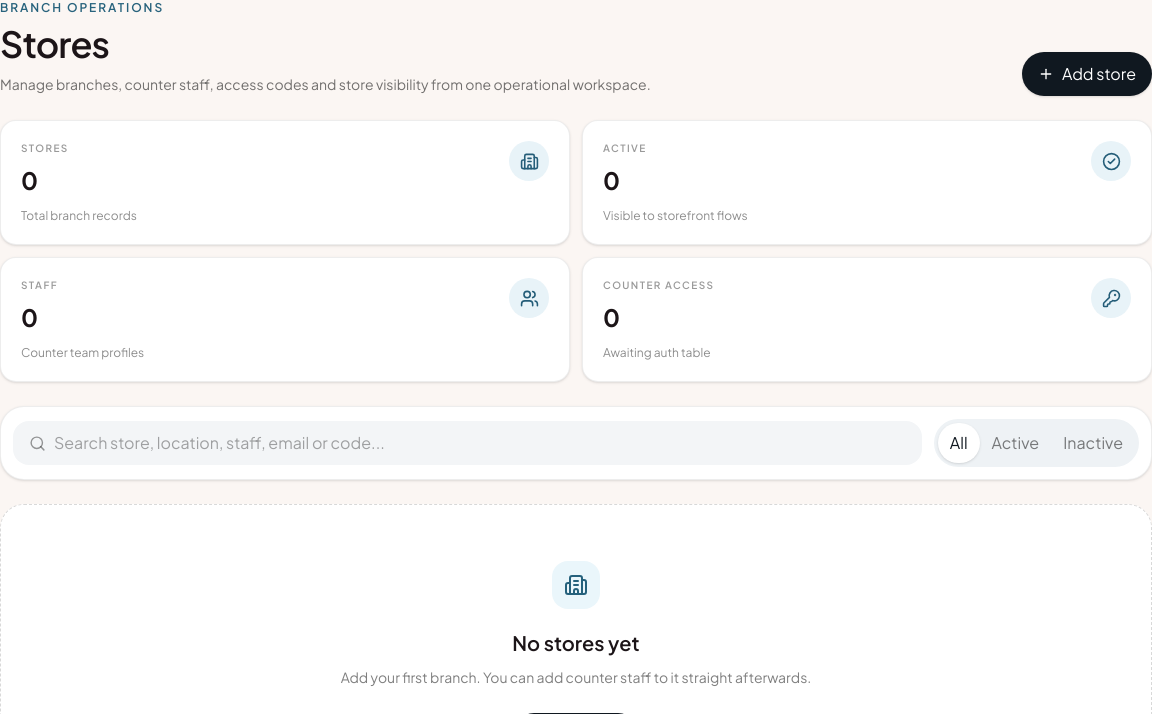
Test: StoreManagement — failed saves › keeps everything typed and attaches the message to the field
Click the 1st button "Add store" at [1087, 74], box left=1022, top=52, right=1151, bottom=96
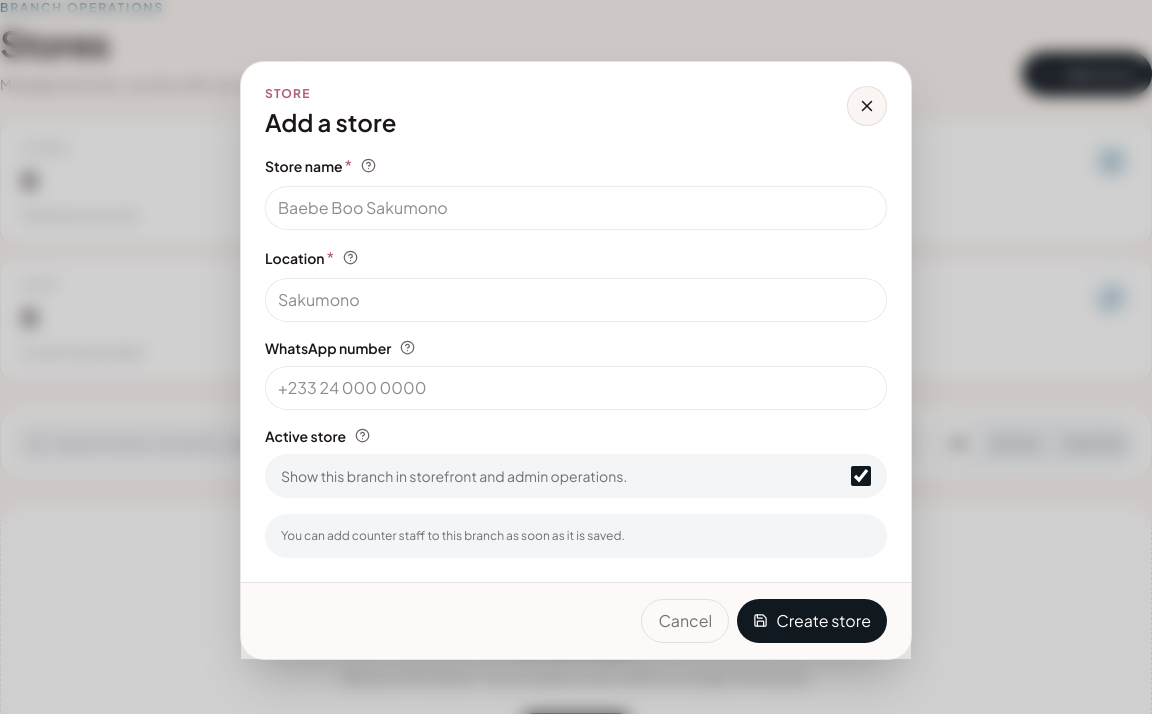
Type "Baebe Boo Ho" into the field labelled "Store name" at [576, 208], box left=265, top=186, right=887, bottom=230
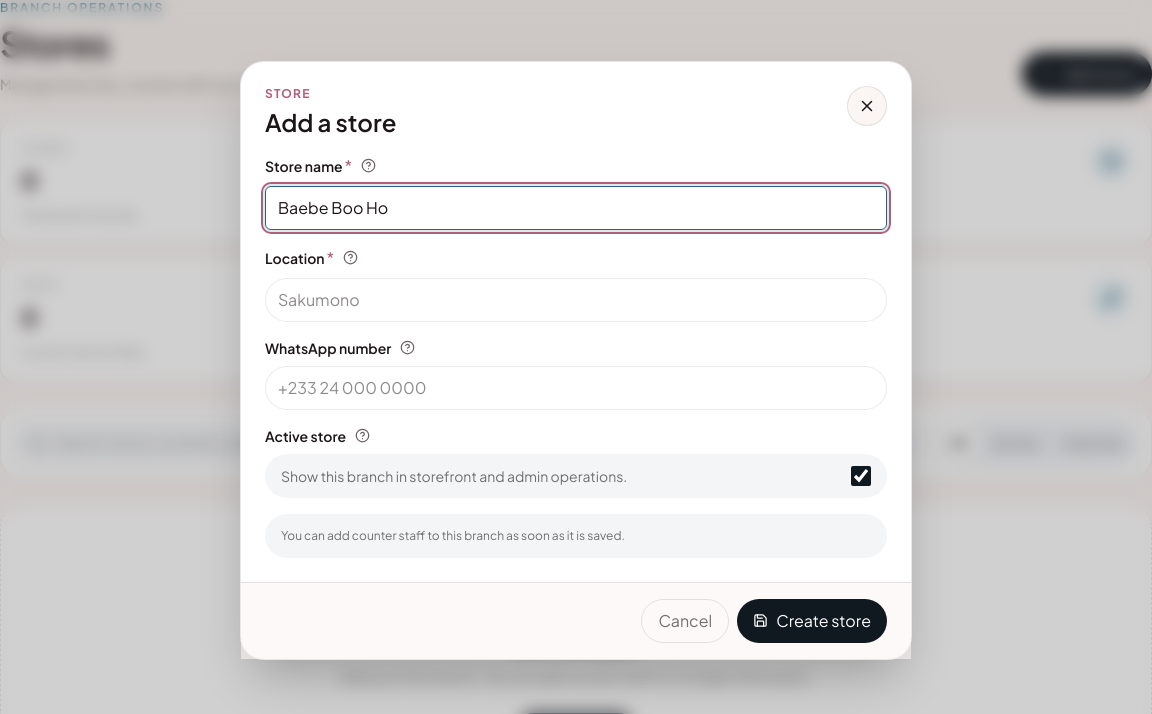
Type "Ho" into the field labelled "Location" at [576, 300], box left=265, top=278, right=887, bottom=322
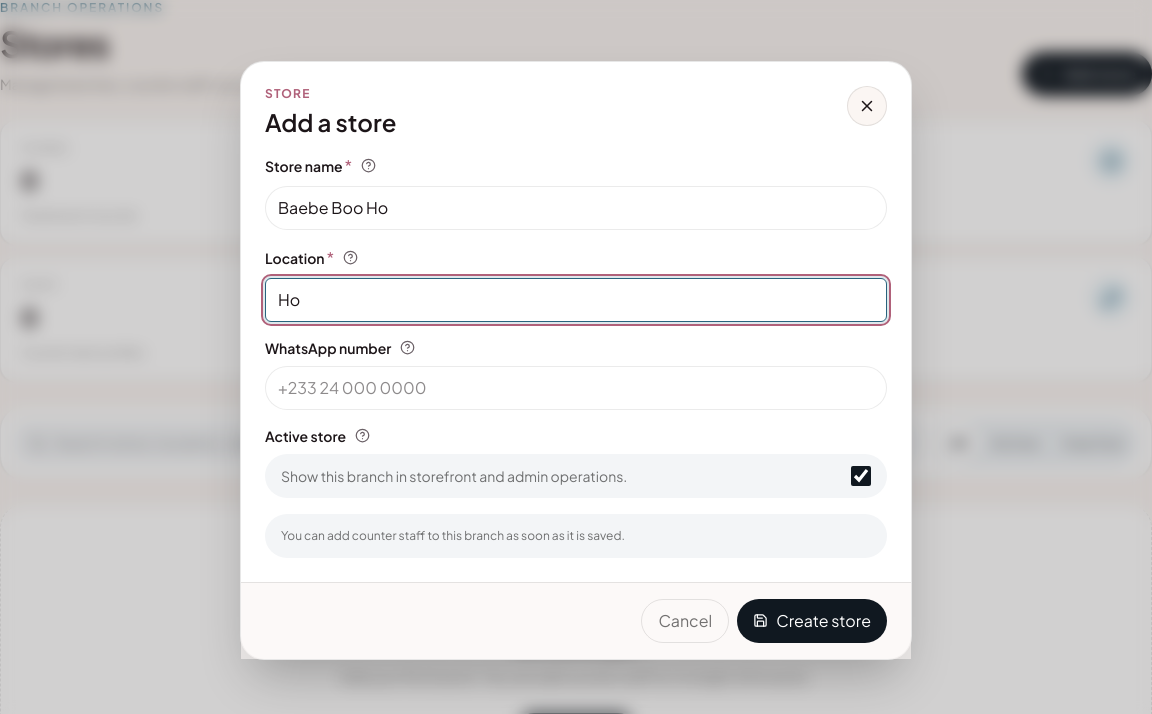
Type "nonsense" into the field labelled "WhatsApp number" at [576, 388], box left=265, top=366, right=887, bottom=410
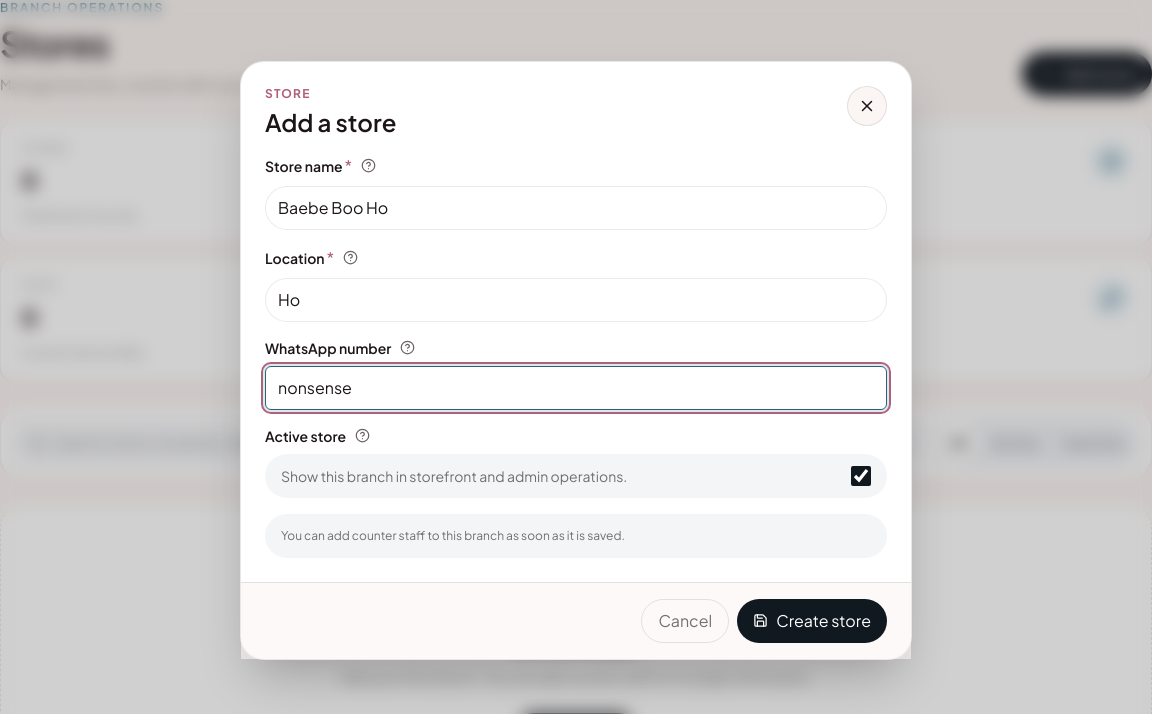
Click the button "Create store" at [812, 620], box left=737, top=598, right=887, bottom=642
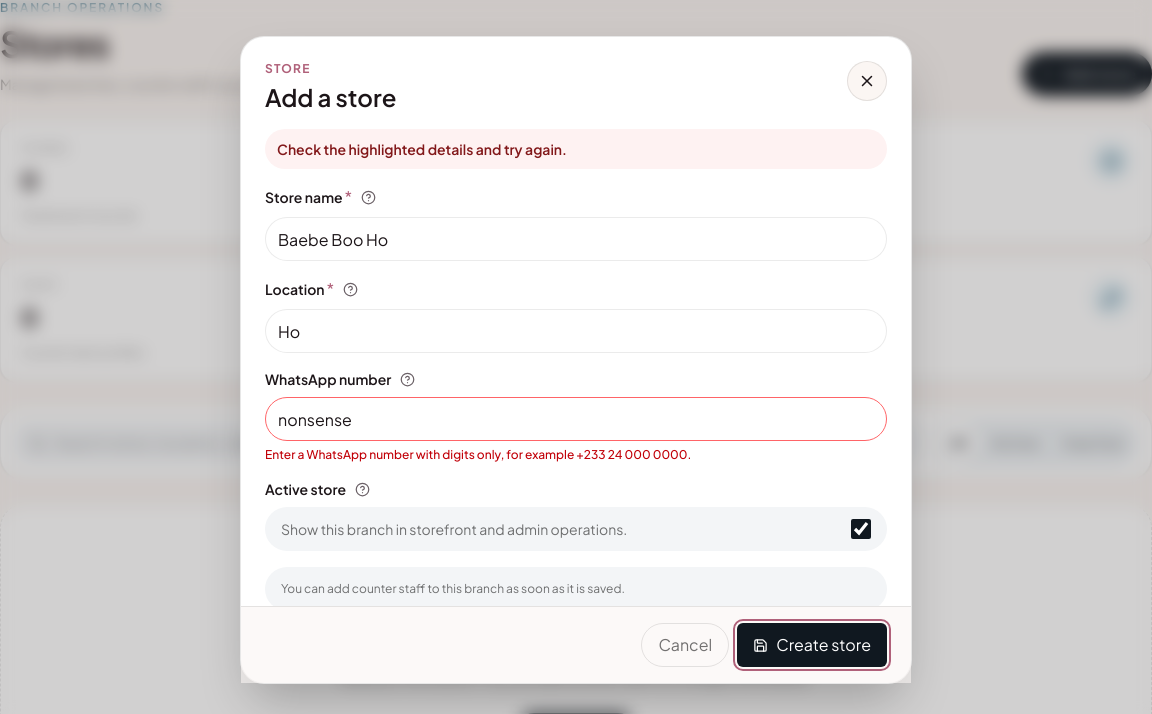
Expected: the dialog is shown, left=240, top=36, right=912, bottom=684
Expected: the text "Enter a WhatsApp number with digits only, for example +233 24 000 0000." is shown, left=265, top=447, right=691, bottom=462
